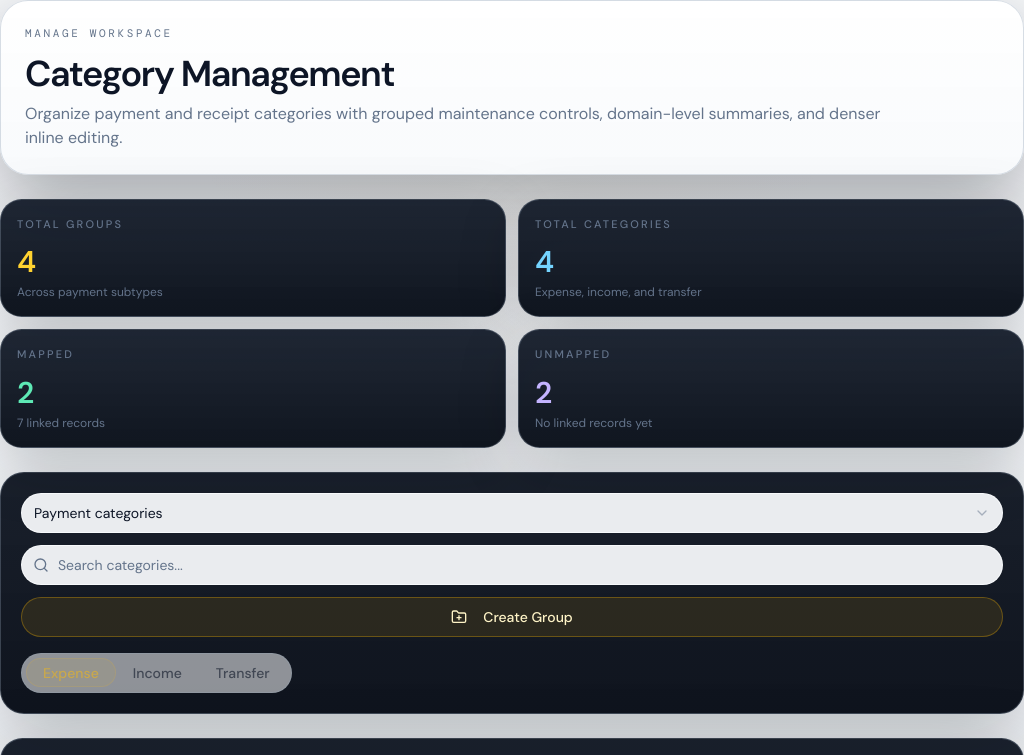
Test: CategoriesPage › filters the visible payment list with subtype tabs and local search
Type "rent" into the field with placeholder "Search categories..." at [512, 564], box [21,544,1003,584]
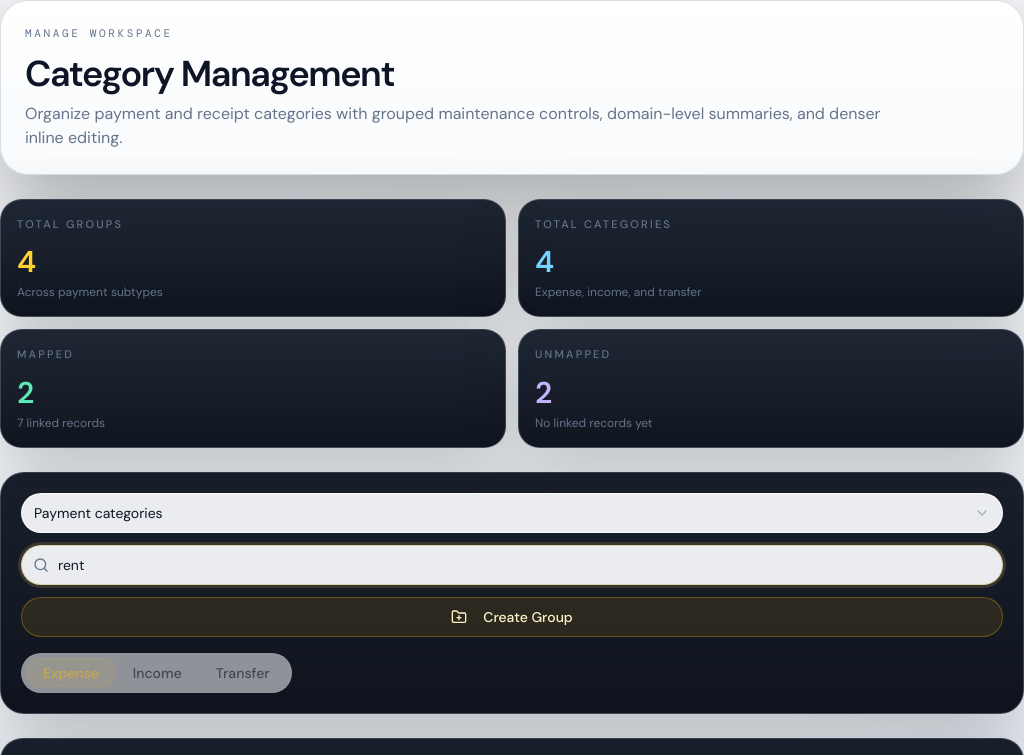
Clear the field with placeholder "Search categories..." at [512, 564], box [21,544,1003,584]
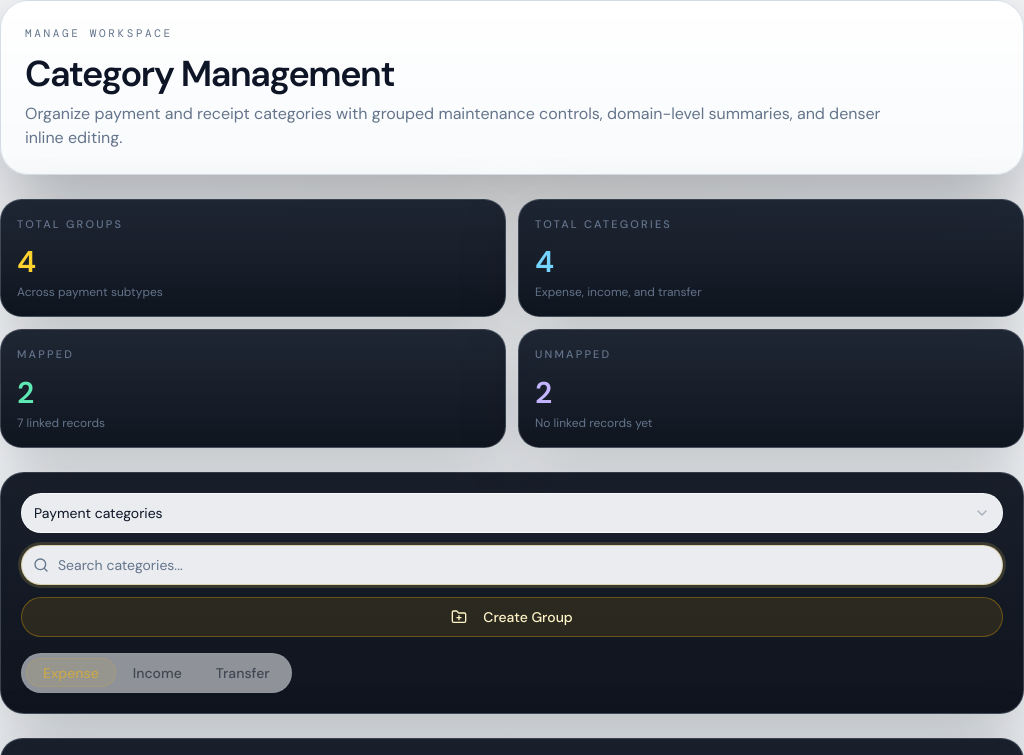
Click the tab "Transfer" at [243, 672], box [199,658,287,687]
(page scrolled)
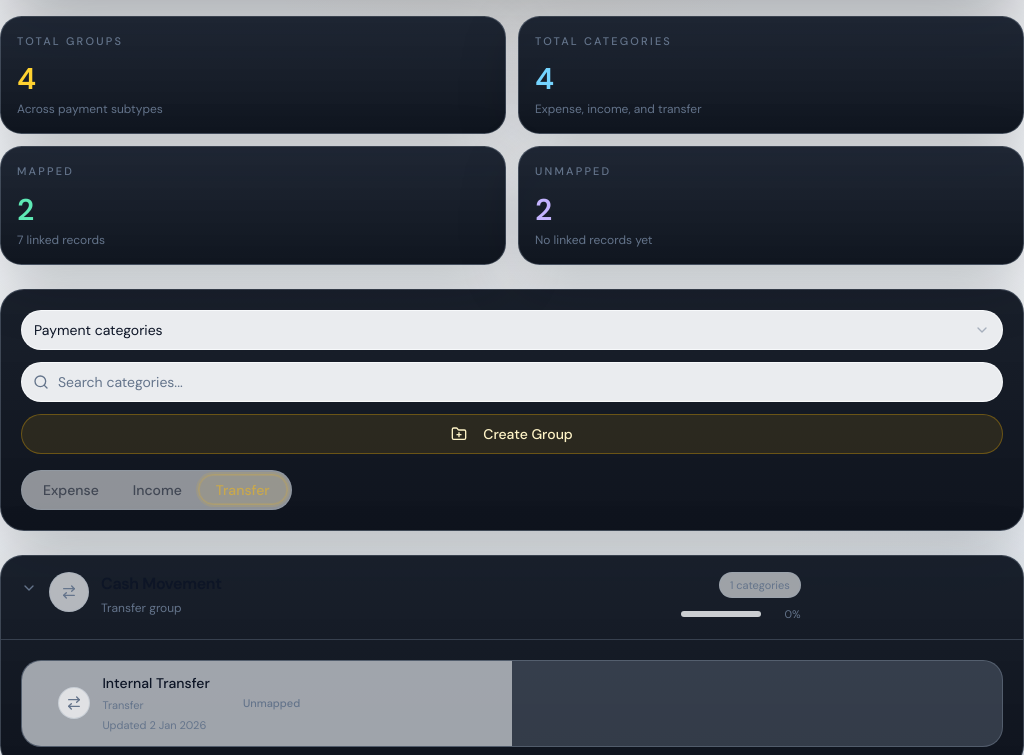
Expected: the text "Internal Transfer" is shown, [102,674,210,692]
